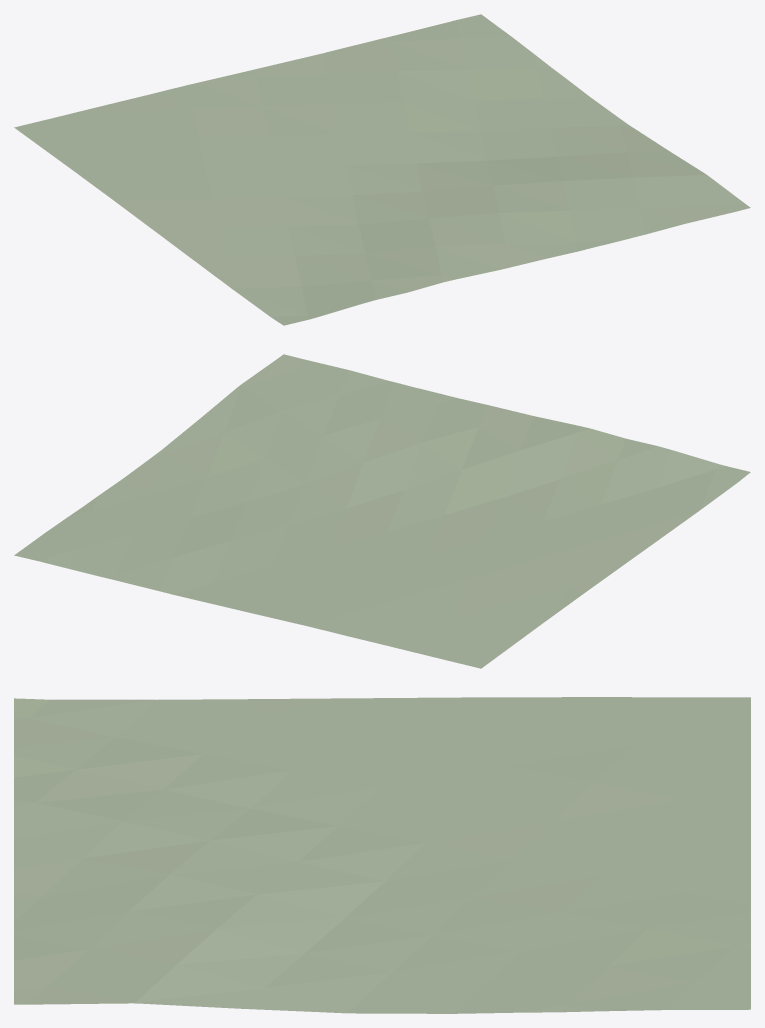
Rendered from SM_MPRR_Terrain_2_-1.fbx.
The picture shows the model from 3 angles, top to bottom: view 1: azimuth 30°, elevation 25°; view 2: azimuth 150°, elevation 25°; view 3: azimuth 270°, elevation 25°; orthographic projection. The views are drawn at different scales.
Visible parts, largest first — view 1: SM_MPRR_Terrain_2_-1; view 2: SM_MPRR_Terrain_2_-1; view 3: SM_MPRR_Terrain_2_-1.
Boxes of the visible parts, x1,y1,x2,y2 form: SM_MPRR_Terrain_2_-1: (14,14,750,325); SM_MPRR_Terrain_2_-1: (14,354,750,668); SM_MPRR_Terrain_2_-1: (14,697,750,1013).
Bounding box in the file's own units: 15000 × 15000 × 235.
